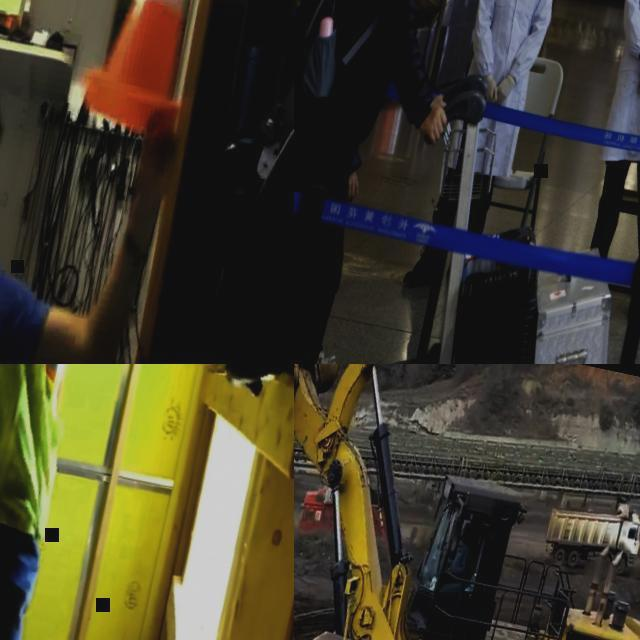machinery: (294, 364, 640, 640), (535, 482, 640, 590), (296, 473, 392, 547)
no_helmet: (463, 521, 473, 532)
no_vest: (312, 0, 429, 129), (465, 0, 555, 99), (608, 0, 640, 124), (448, 540, 469, 578)
person: (0, 364, 294, 640), (294, 0, 505, 364), (0, 56, 183, 364), (400, 0, 577, 306), (294, 0, 439, 364), (559, 0, 640, 316), (444, 518, 476, 580)
safety_cone: (75, 0, 228, 142)
vest: (0, 364, 189, 553)
